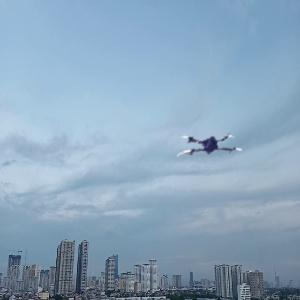drone: (176, 120, 243, 187)
